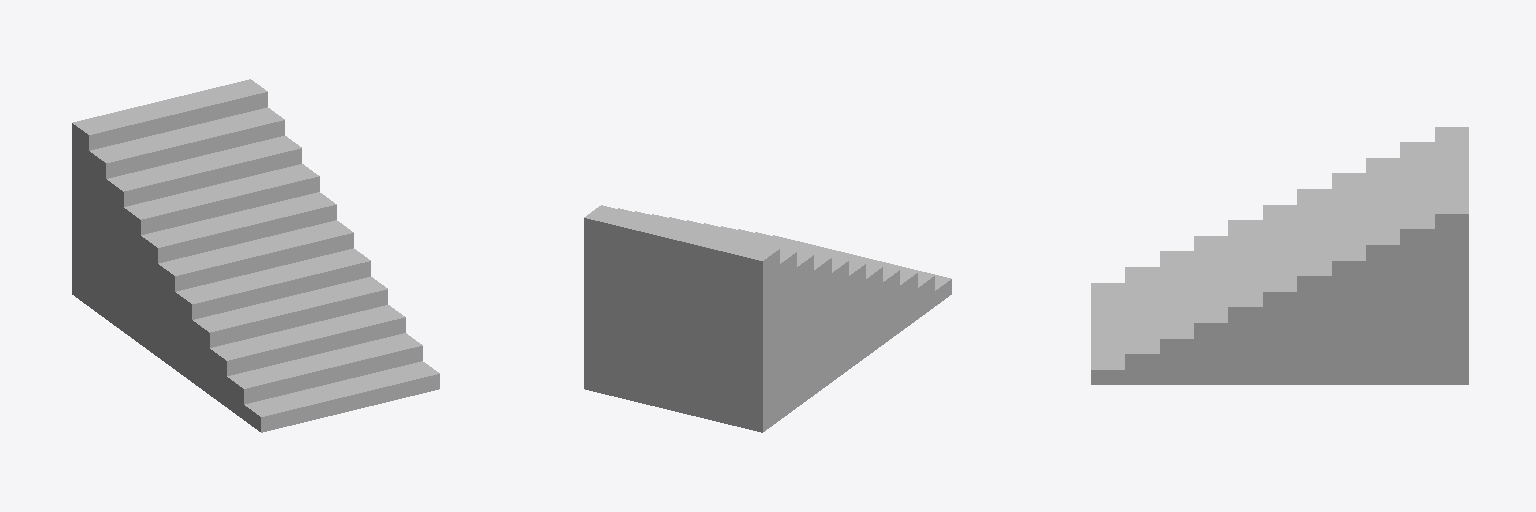
The model's file is Stairs.obj.
3 renders of one model, left to right at view 1: azimuth 30°, elevation 25°; view 2: azimuth 150°, elevation 25°; view 3: azimuth 270°, elevation 25°, orthographic.
Parts seen in each view (by area): view 1: StraightStair001; view 2: StraightStair001; view 3: StraightStair001.
Part boxes in pixels (left/top/right/bottom): StraightStair001: left=72, top=79, right=439, bottom=432; StraightStair001: left=584, top=205, right=951, bottom=432; StraightStair001: left=1091, top=127, right=1468, bottom=384.
Size of the model in its own units: 100 by 91.67 by 183.